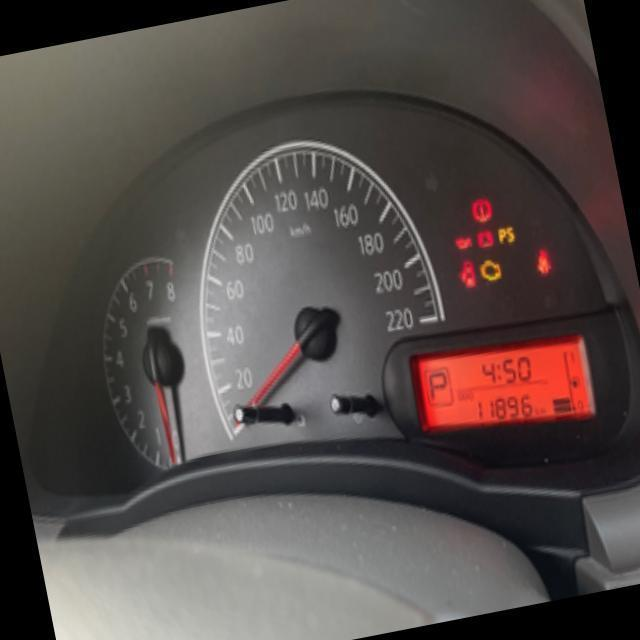Doors: (454, 258, 480, 292)
